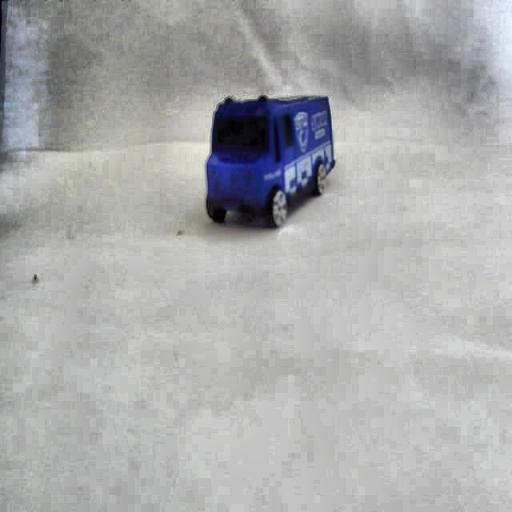police car: (202, 84, 334, 229)
